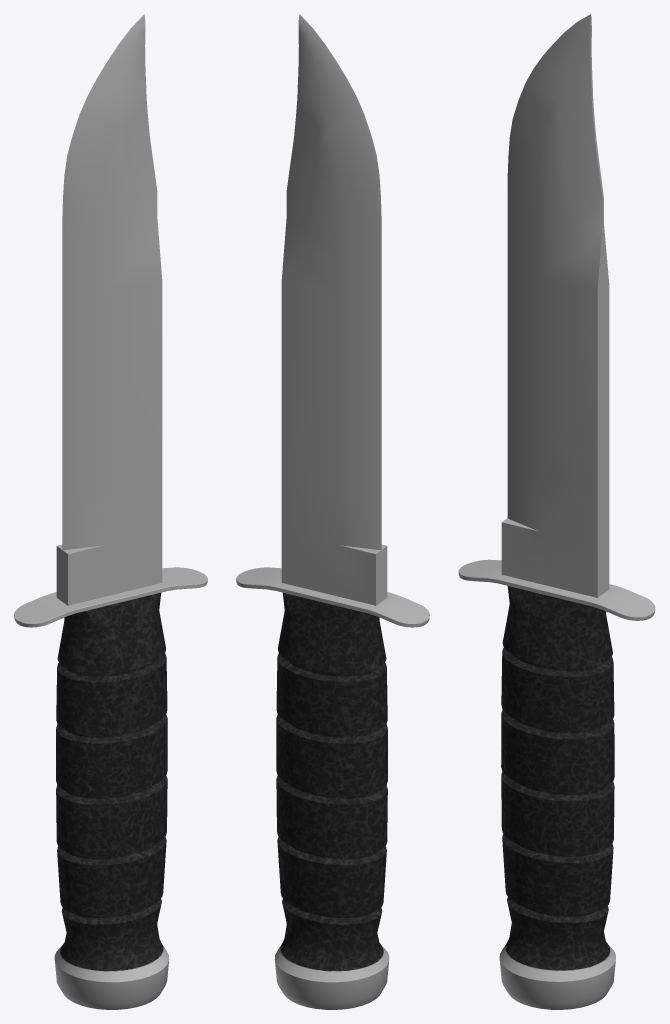
The model's file is SM_KnifeSKM.FBX.
3 views of the same model, side by side, from view 1: azimuth 30°, elevation 25°; view 2: azimuth 150°, elevation 25°; view 3: azimuth 330°, elevation 25° (orthographic).
Parts seen in each view (by area): view 1: SM_Knife; view 2: SM_Knife; view 3: SM_Knife.
Part boxes in pixels (left/top/right/bottom): SM_Knife: left=14, top=14, right=207, bottom=1009; SM_Knife: left=236, top=14, right=429, bottom=1009; SM_Knife: left=458, top=14, right=655, bottom=1009.
Size of what is drawn, in the model's own units: 9.35 by 4.96 by 46.02.
Materials: 1 (1 with a texture image).
